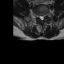CCS_normal: (41, 14, 42, 21)
LFS_normal: (44, 12, 47, 19)
LLS_normal: (42, 14, 44, 21)
RFS_normal: (37, 13, 39, 19)
RLS_normal: (39, 14, 41, 20)
